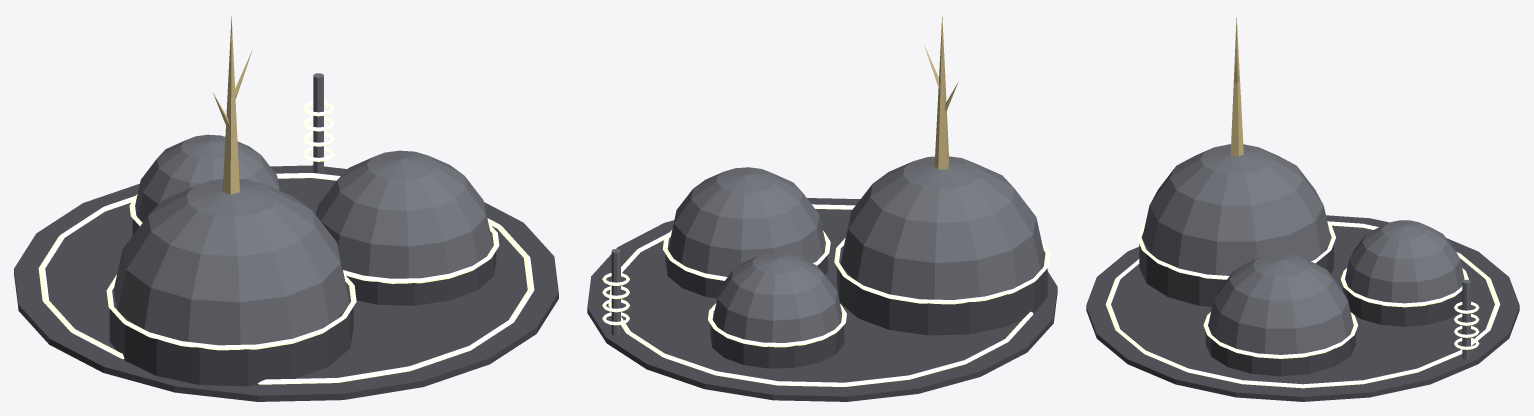
The model's file is zone_low_3_t4.glb.
The picture shows the model from 3 angles, left to right: view 1: azimuth 30°, elevation 25°; view 2: azimuth 150°, elevation 25°; view 3: azimuth 270°, elevation 25°; orthographic projection. The views are drawn at different scales.
Parts seen in each view (by area): view 1: zone_low_3_t4, detail; view 2: zone_low_3_t4, detail; view 3: zone_low_3_t4, detail.
Part boxes in pixels (<box>): zone_low_3_t4: <box>14,16,558,401</box>; detail: <box>38,49,534,384</box>; zone_low_3_t4: <box>587,16,1057,401</box>; detail: <box>602,45,1033,386</box>; zone_low_3_t4: <box>1086,17,1519,401</box>; detail: <box>1105,55,1500,388</box>.
Size of the model in its own units: 19.6 by 12.92 by 19.6.
